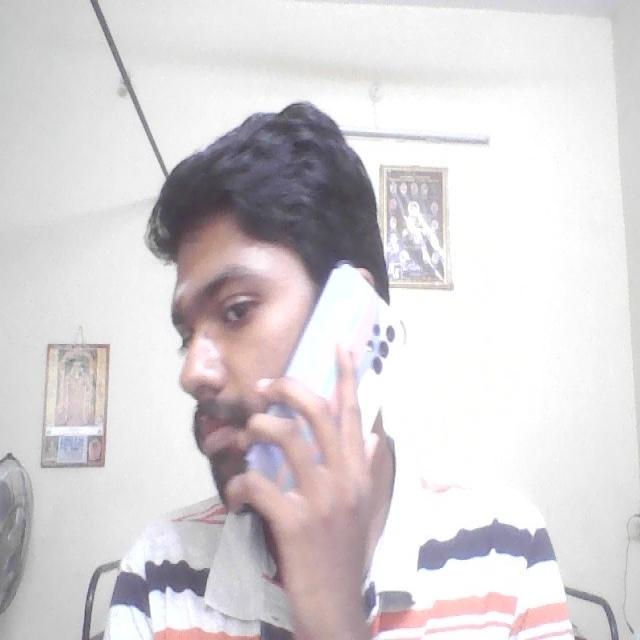Mobile: (279, 240, 417, 469)
